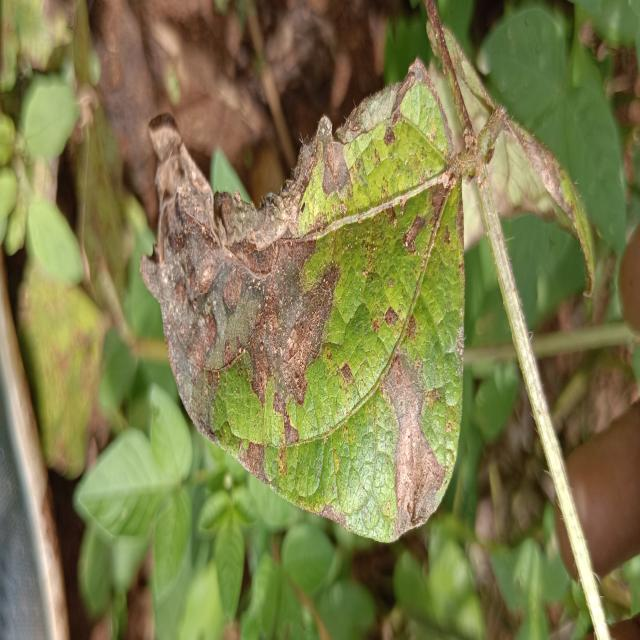Black gram_leaf spot: (152, 120, 465, 542)
